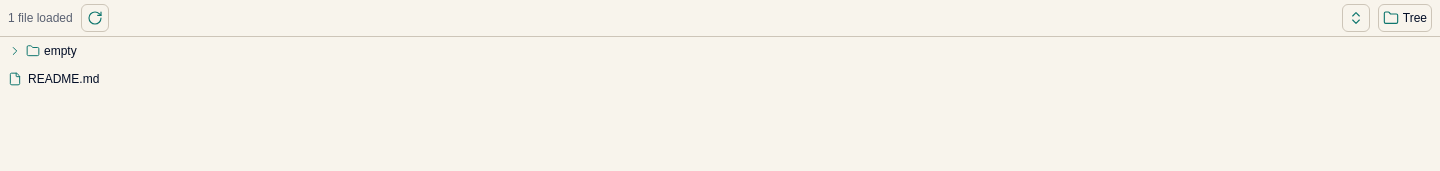
Test case: sidebar distinguishes no known changes from unavailable status (ready: true)
Hover over the button with aria-label "Expand empty" at (60, 51), box [4, 37, 1436, 65]
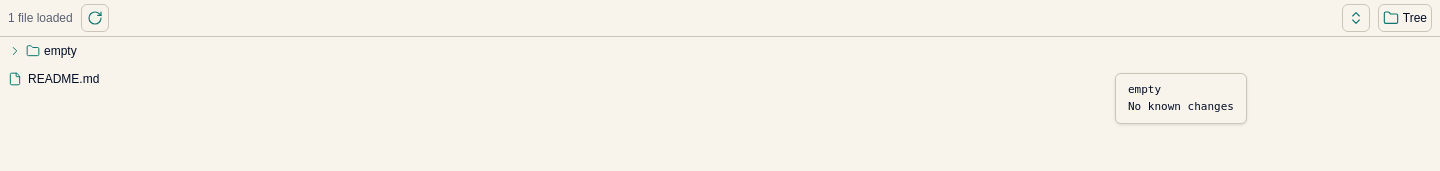
Now the tooltip shows "No known changes", box [1128, 100, 1234, 112]
Move the pointer off the button with aria-label "Expand empty", box [4, 37, 1436, 65]
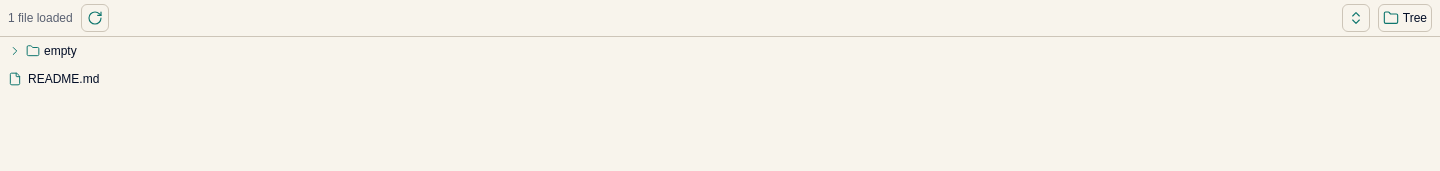
Hover over the button with aria-label "Review README.md" at (64, 79), box [4, 65, 1436, 93]
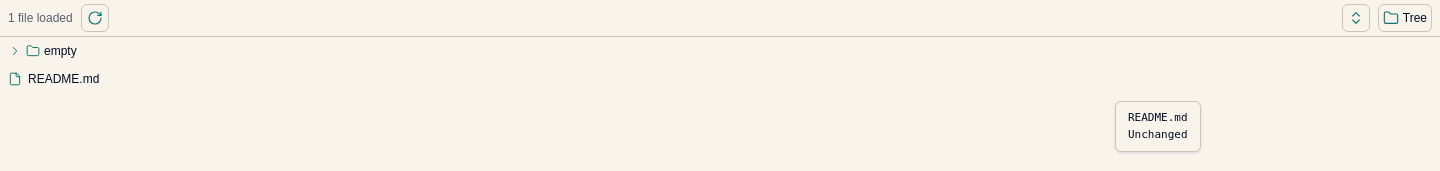
Now the tooltip shows "README.md", box [1128, 111, 1188, 124]
Now the tooltip shows "Unchanged", box [1128, 128, 1188, 140]
